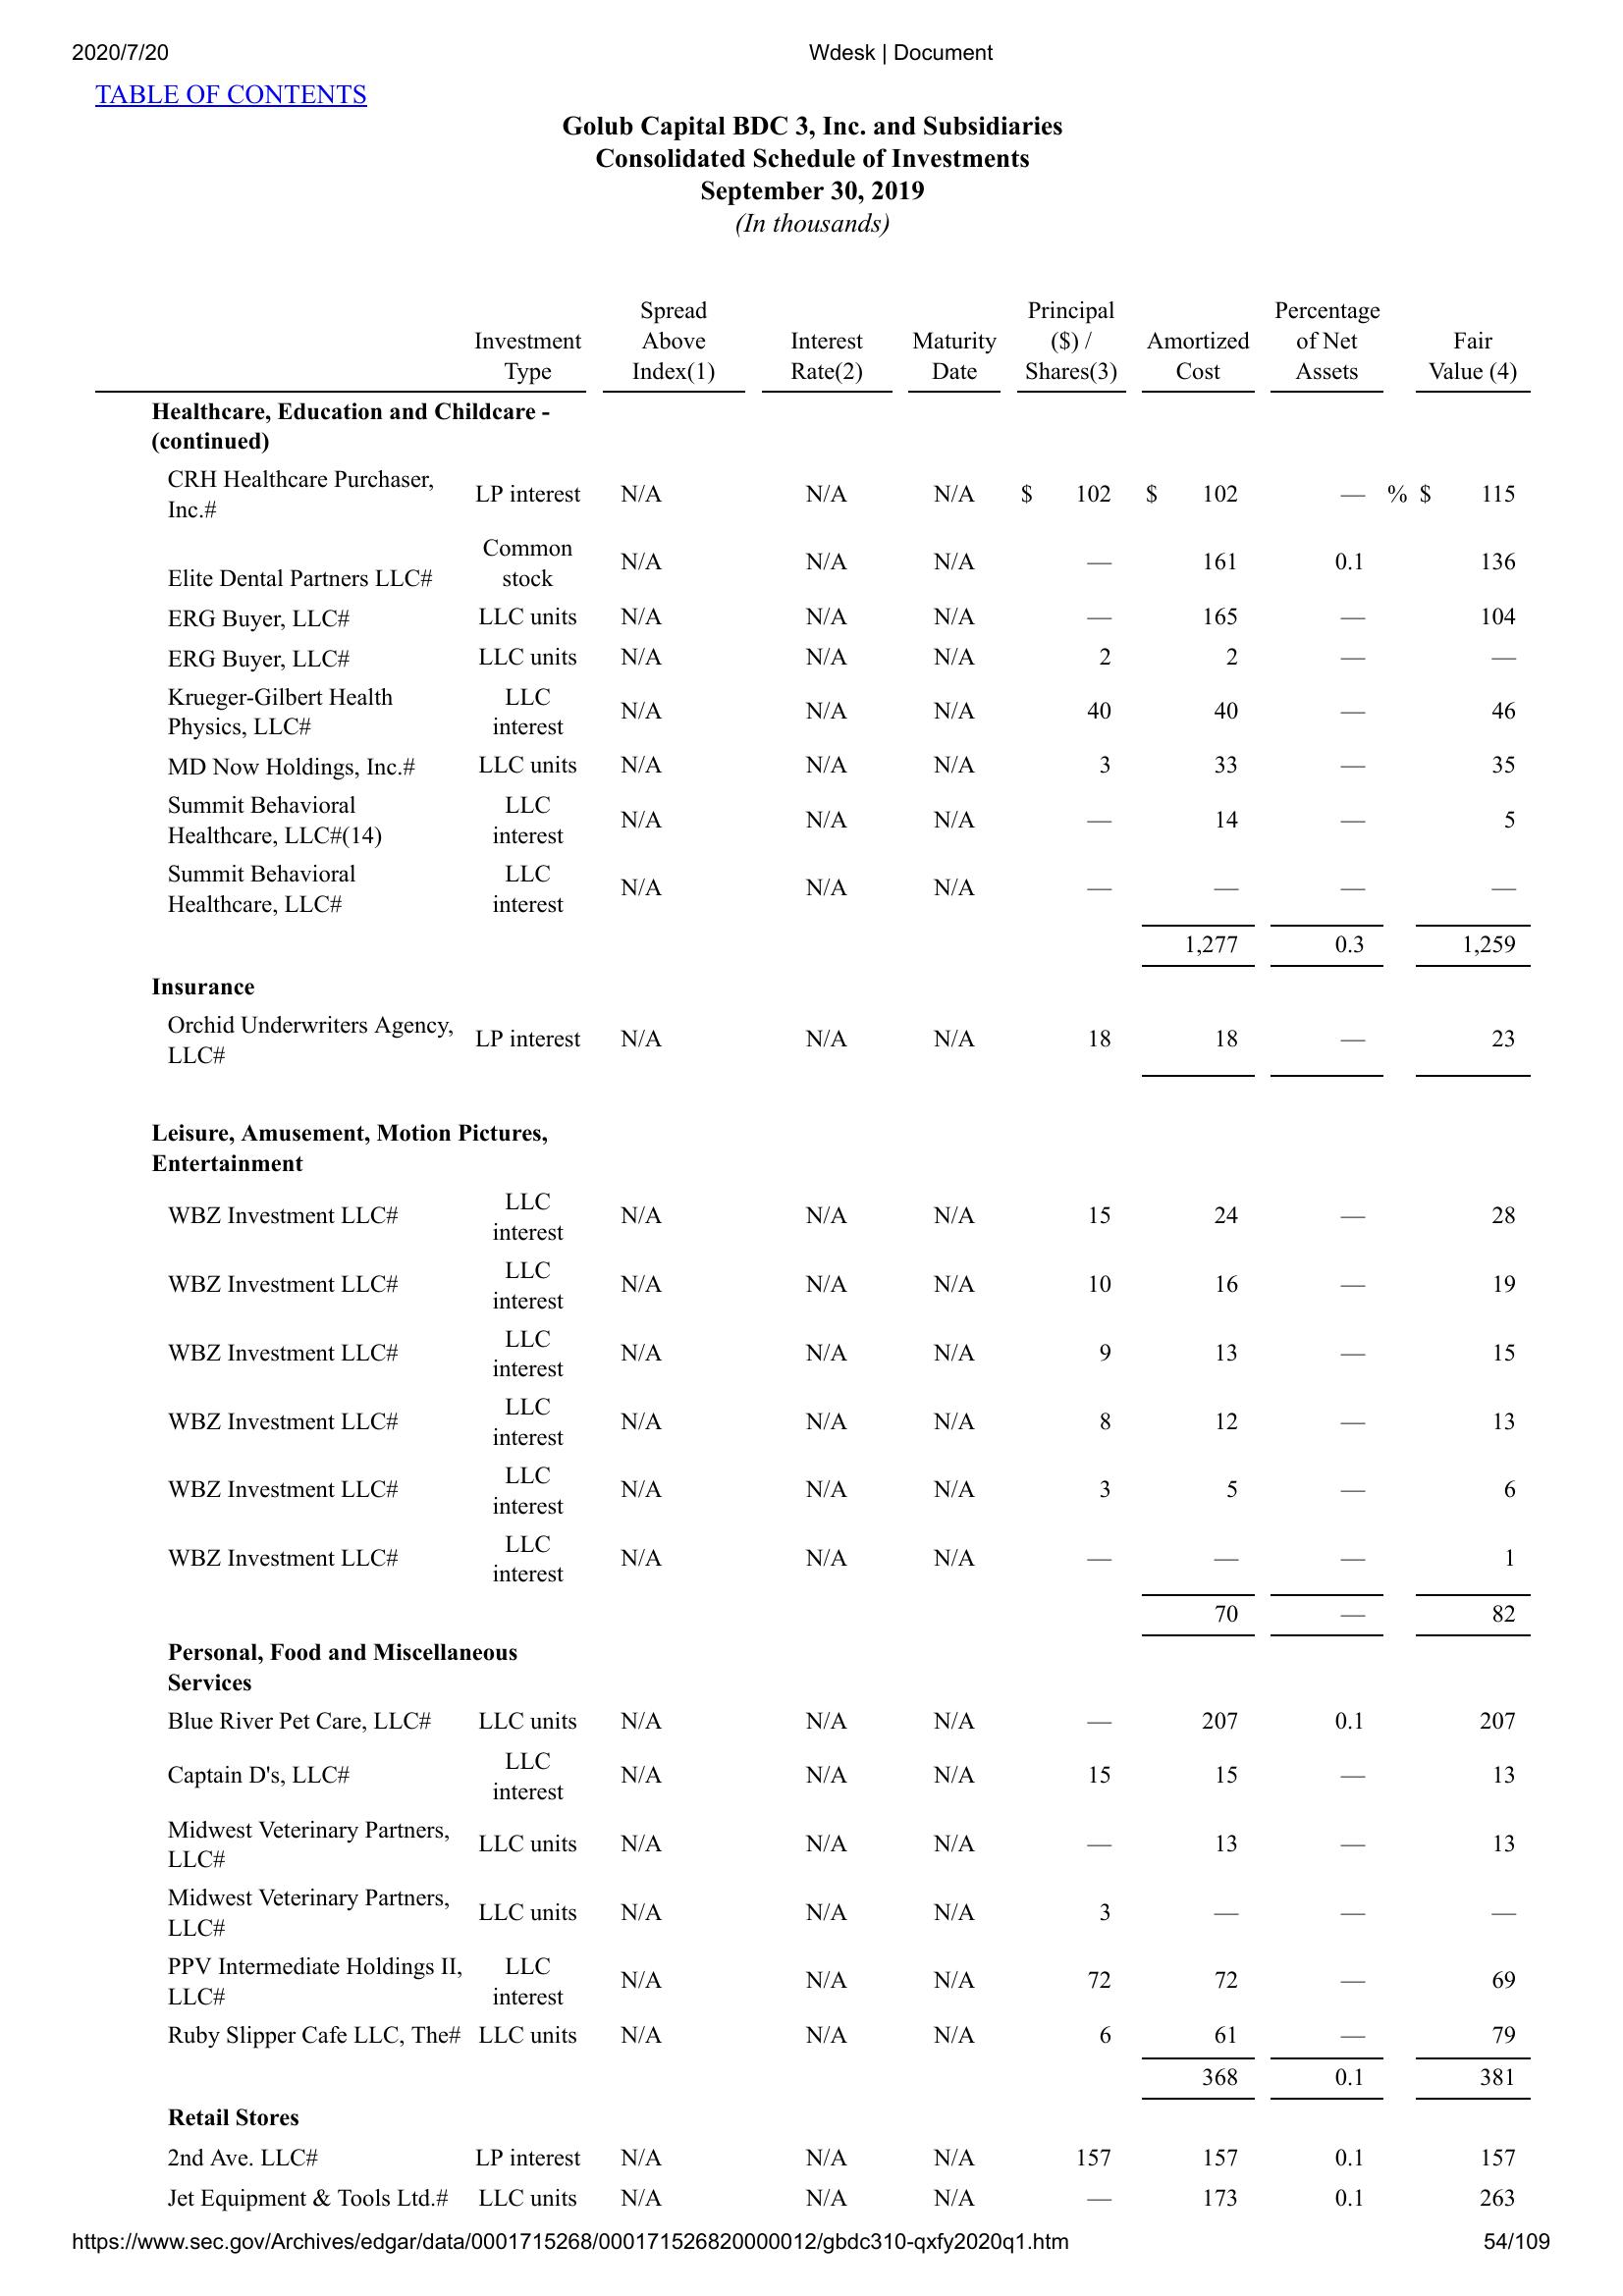table: (102, 283, 1533, 2221)
